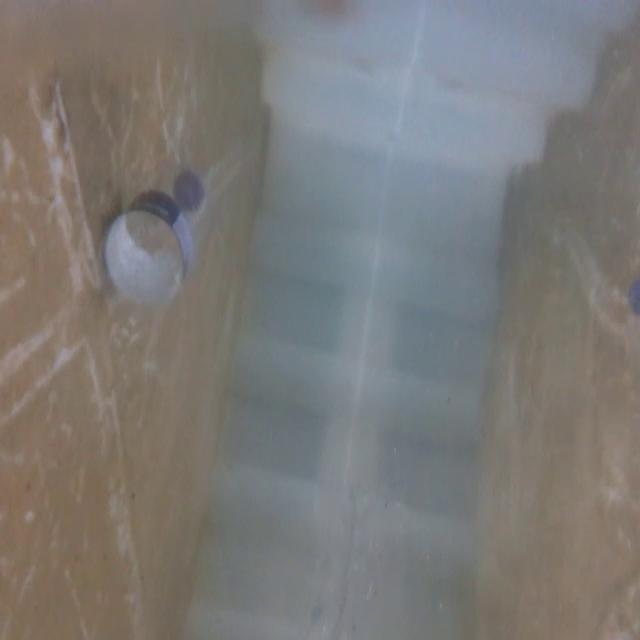plastic bottle: (64, 175, 220, 327)
